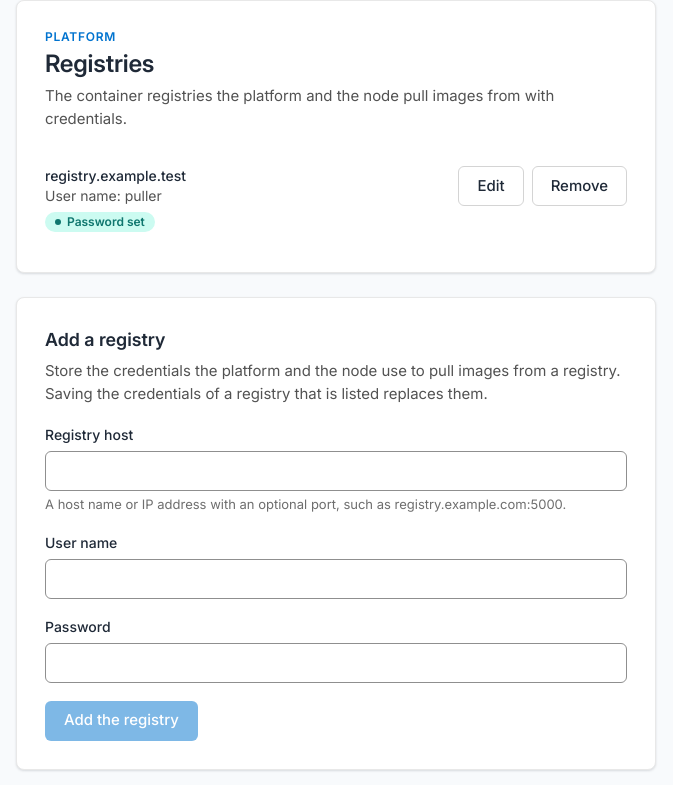
RegistriesPage › edits a registry and keeps its password when the field stays empty
Click the button with aria-label "Edit registry.example.test" at point(491, 186), box [458, 166, 524, 206]
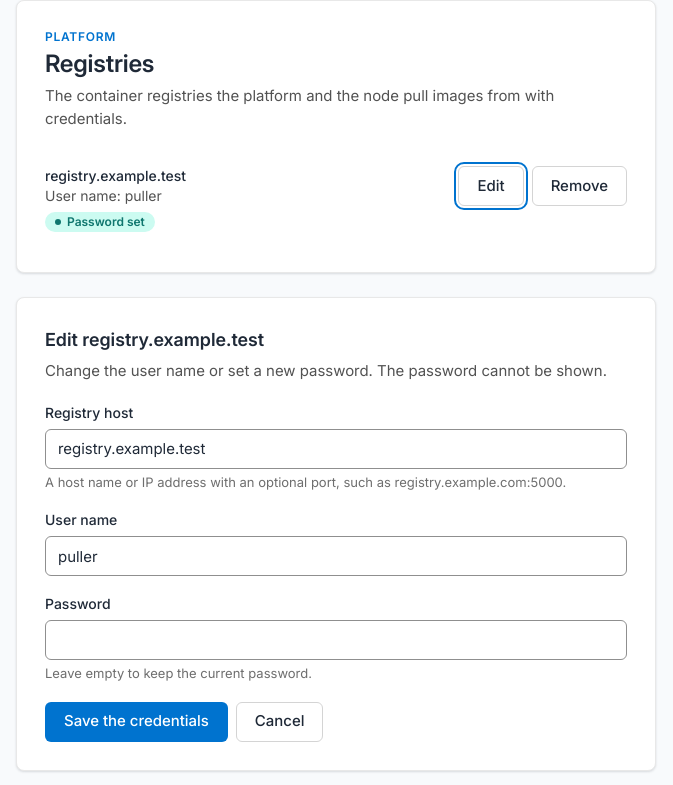
Expected: the heading "Edit registry.example.test" is shown, [45, 329, 264, 350]
Expected: the field labelled "User name" holds "puller", [45, 536, 627, 576]
Expected: the password field labelled "Password" is empty, [45, 620, 627, 660]
Click the button "Save the credentials" at point(136, 722), box [45, 702, 228, 742]
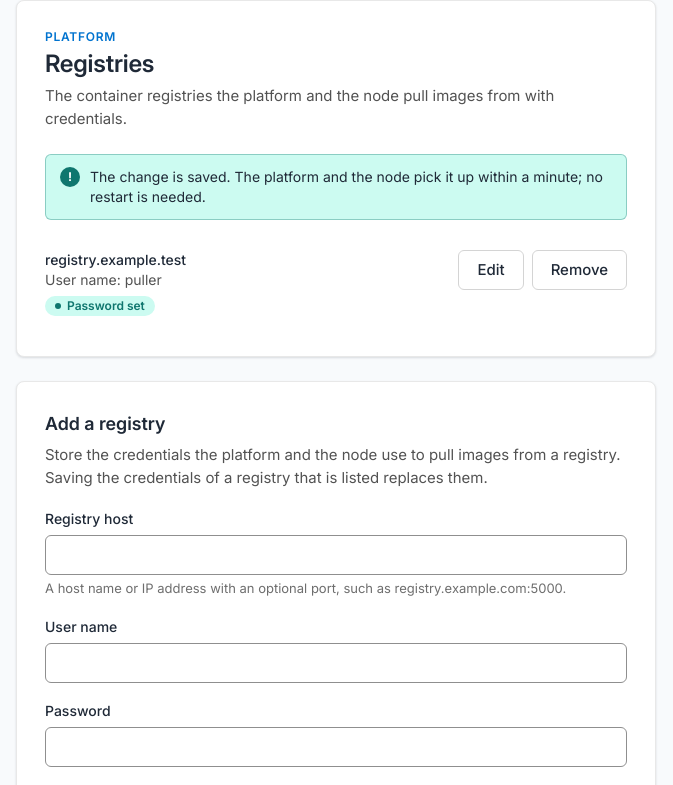
Expected: the text "no restart is needed" is shown, [90, 168, 603, 205]
Expected: the heading "Add a registry" is shown, [45, 413, 166, 434]
